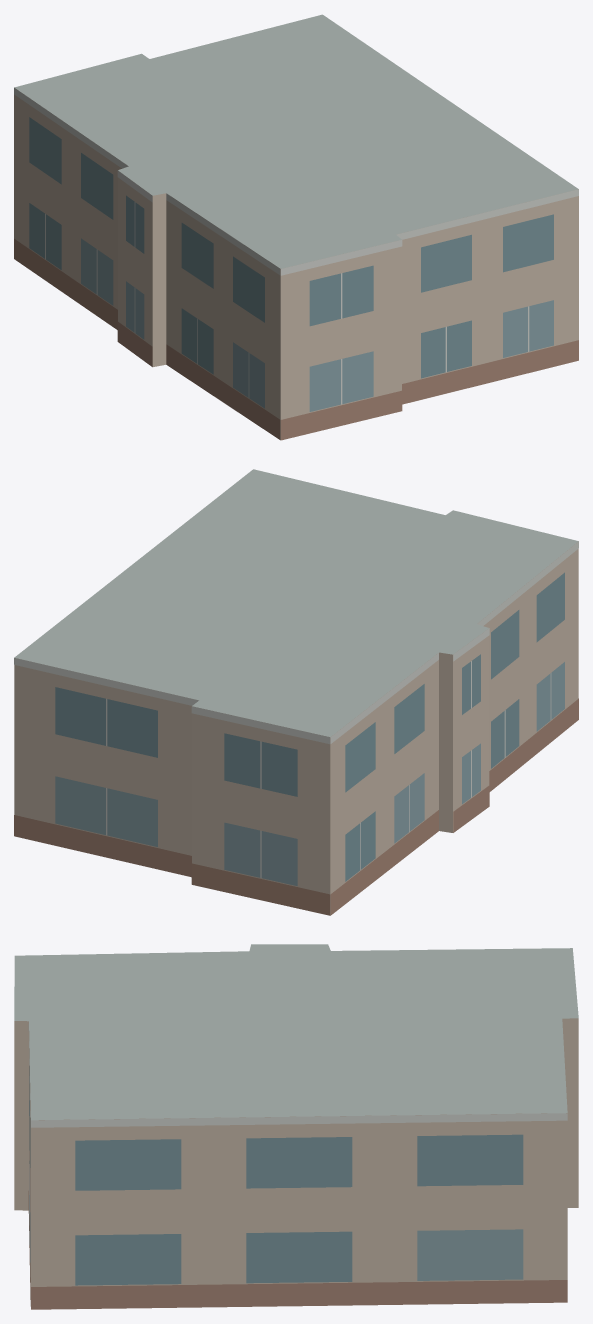
The model's file is survey-upis-32665802.glb.
The picture shows the model from 3 angles, top to bottom: view 1: azimuth 30°, elevation 25°; view 2: azimuth 150°, elevation 25°; view 3: azimuth 270°, elevation 25°; orthographic projection. The views are drawn at different scales.
Visible parts, largest first — view 1: survey-upis-32665802.tmp; view 2: survey-upis-32665802.tmp; view 3: survey-upis-32665802.tmp.
Boxes of the visible parts, x1,y1,x2,y2 form: survey-upis-32665802.tmp: (14,14,578,440); survey-upis-32665802.tmp: (14,469,578,915); survey-upis-32665802.tmp: (14,944,578,1309).
Bounding box in the file's own units: 12.17 × 6.1 × 16.49.
